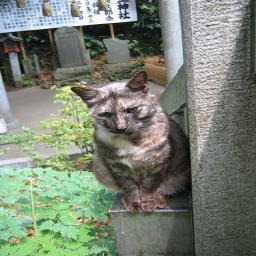catnose: (112, 124, 129, 132)
